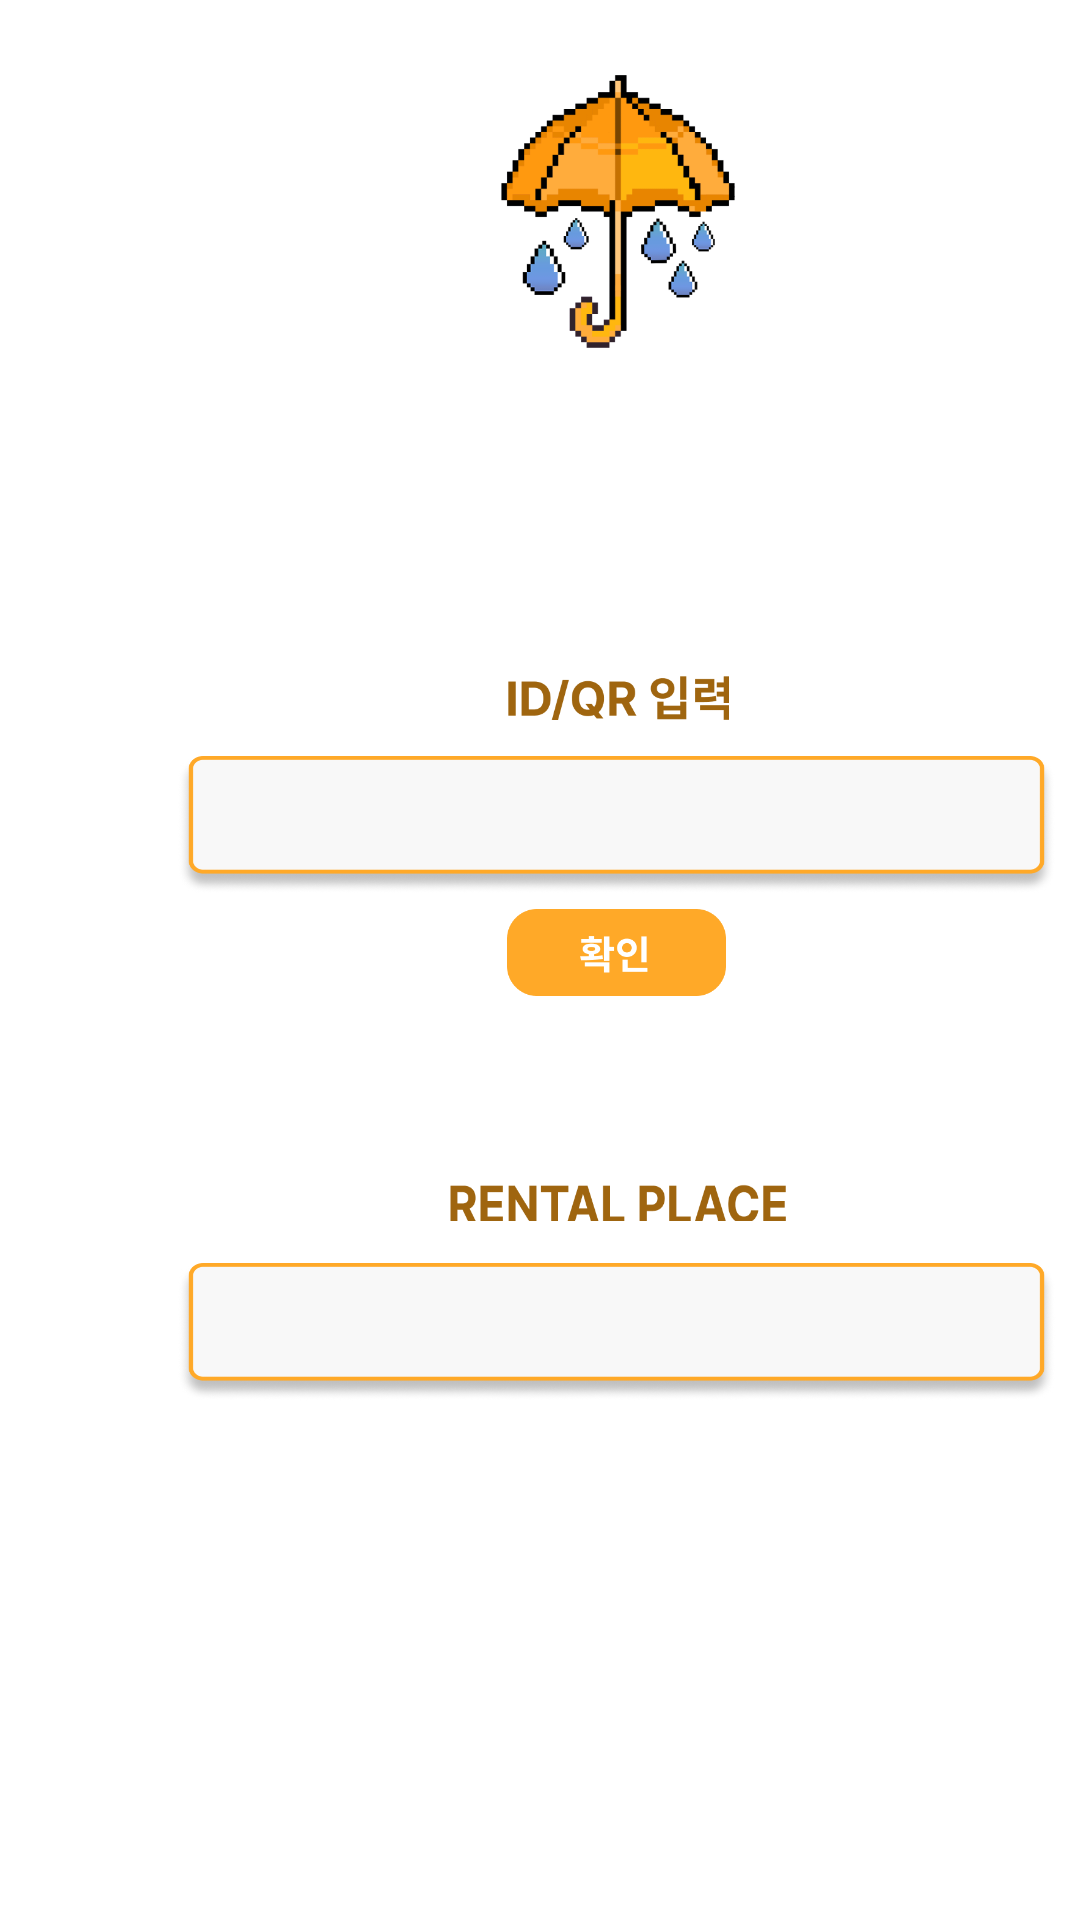

Screen size 1080*1920. Icon name, then its center in pixels as point (x, y):
rental waterdrop: point (618, 211)
